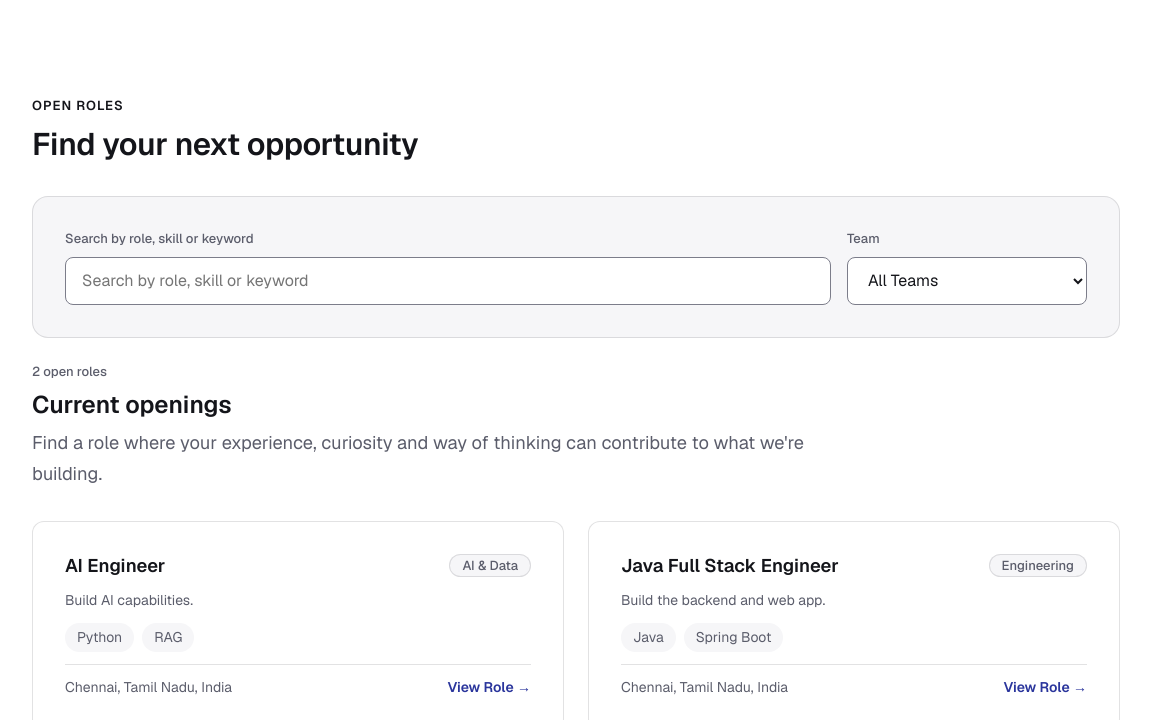
it: CurrentOpeningsSection › filters results by keyword
Type "java" into the field labelled "Search by role, skill or keyword" at (448, 280), box [65, 256, 831, 304]
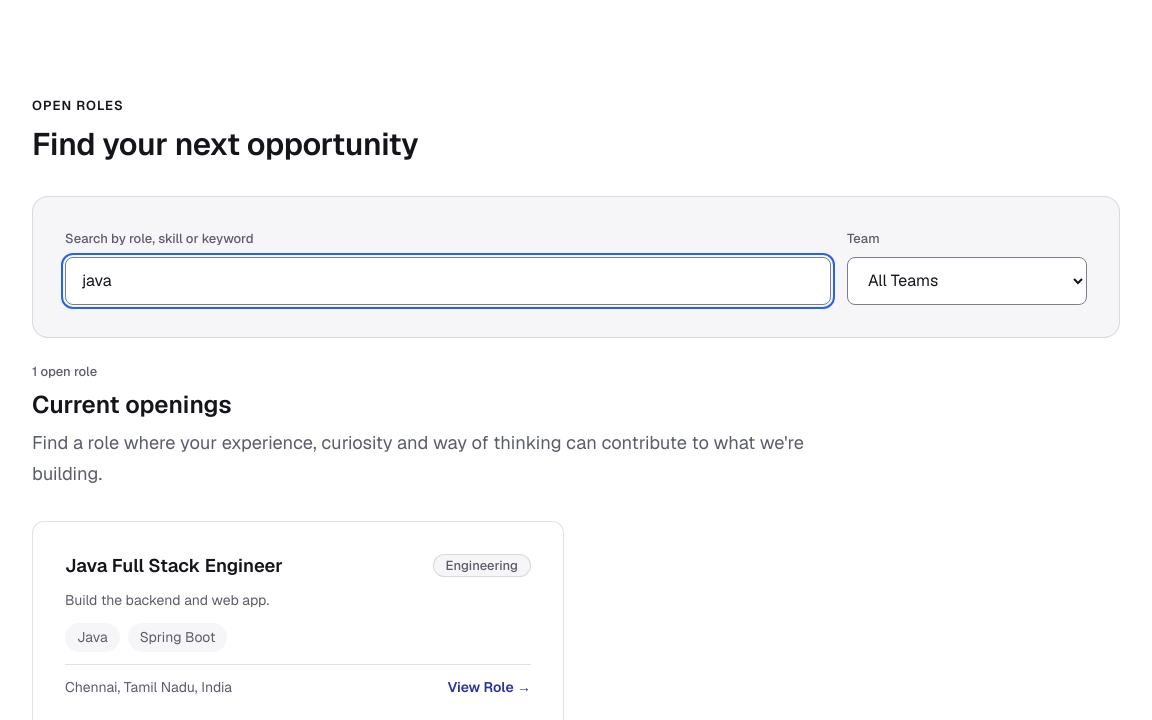
Expected: the heading "Java Full Stack Engineer" is shown, [65, 554, 283, 578]
Expected: the text "1 open role" is shown, [32, 362, 97, 380]
Expected: the link "AI Engineer" is gone
